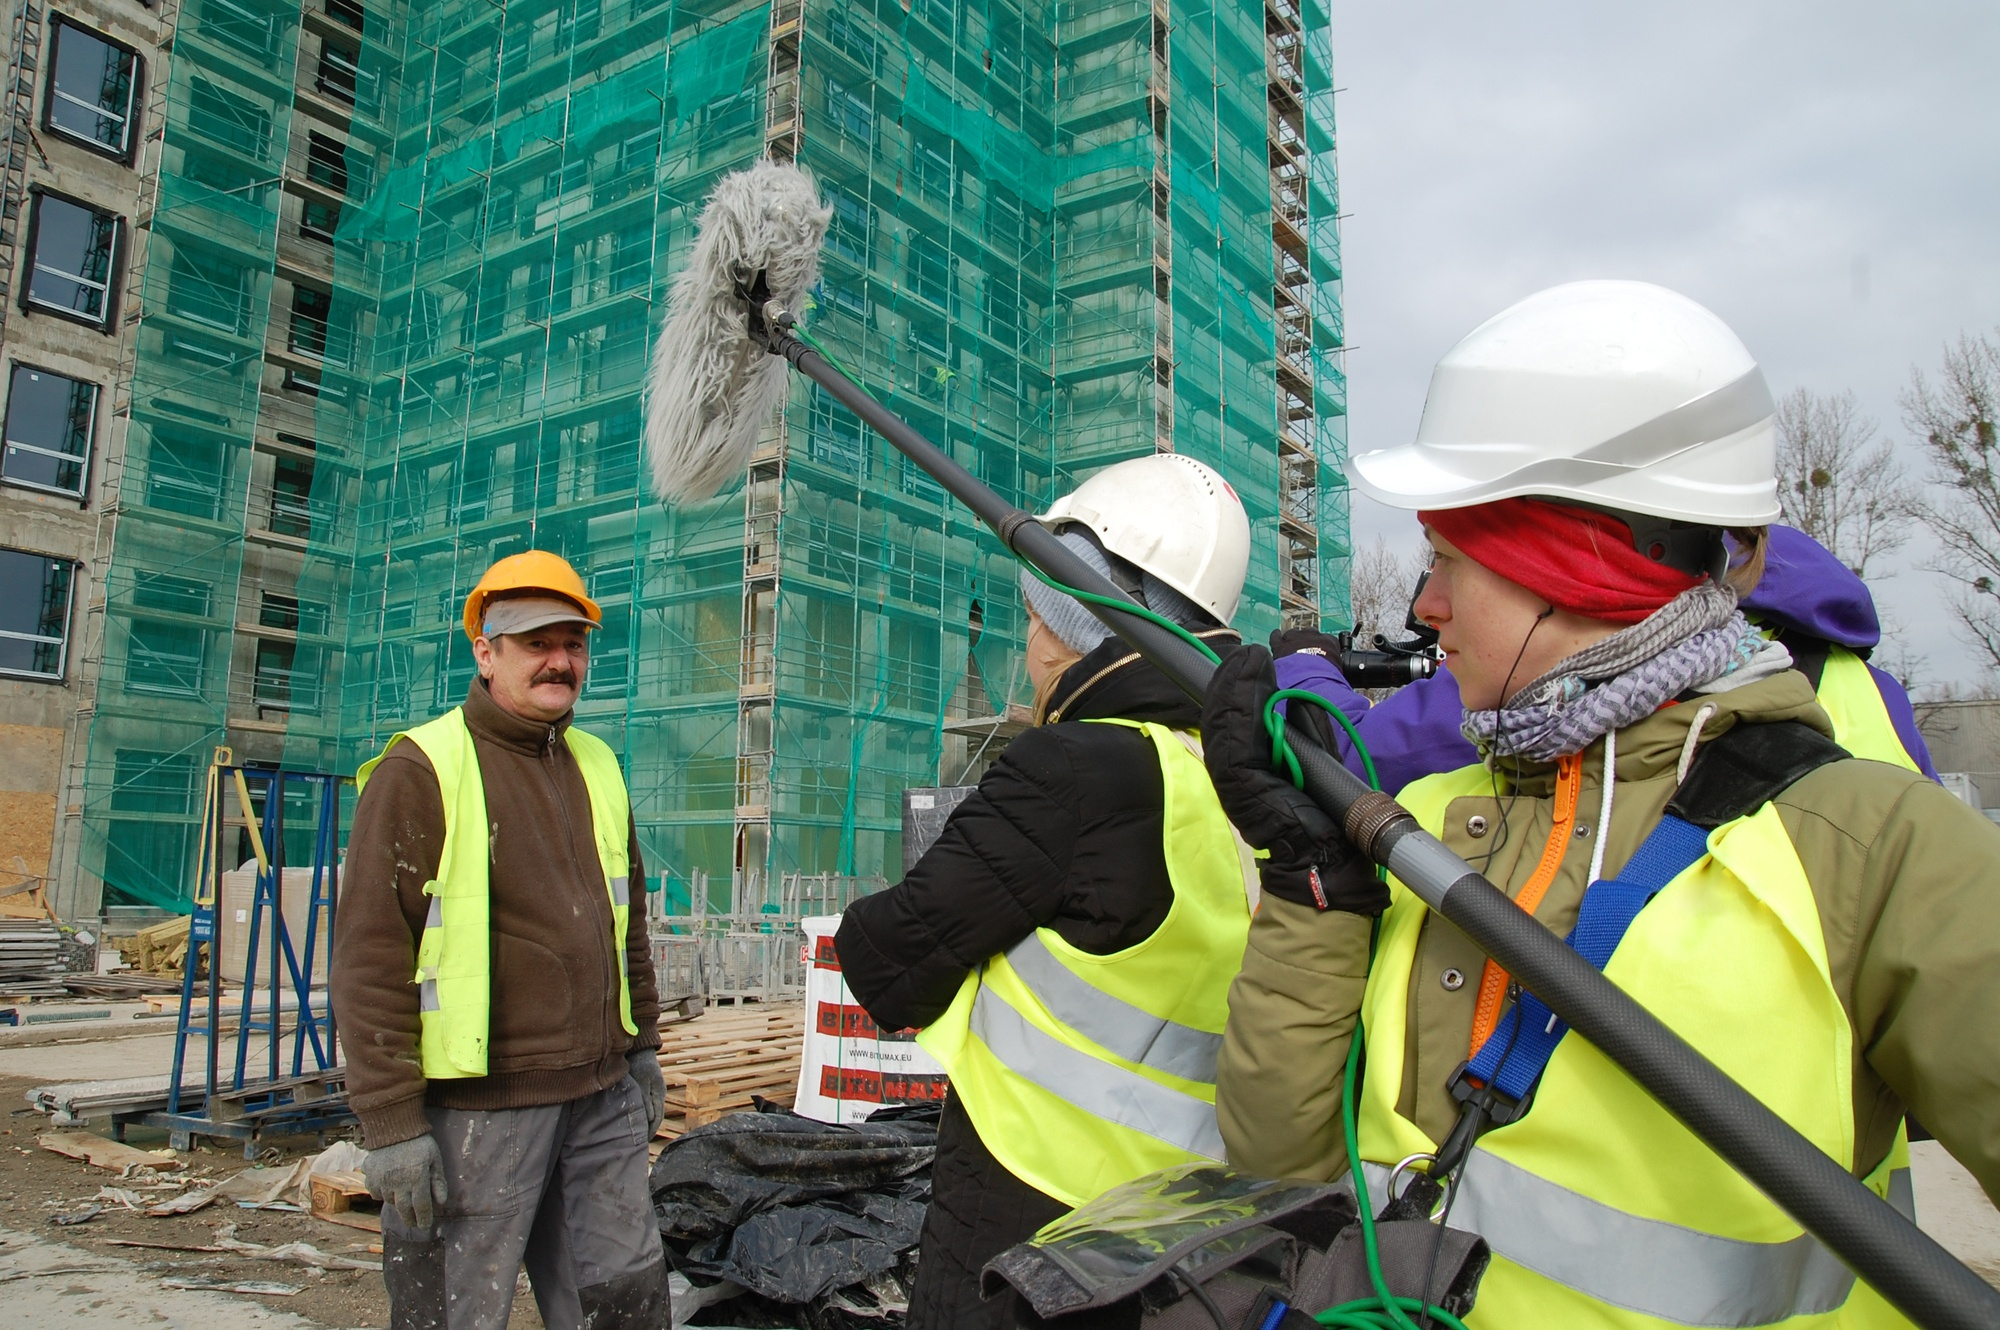white: (1374, 278, 1780, 708), (1009, 448, 1248, 677)
yellow: (460, 542, 608, 727)
